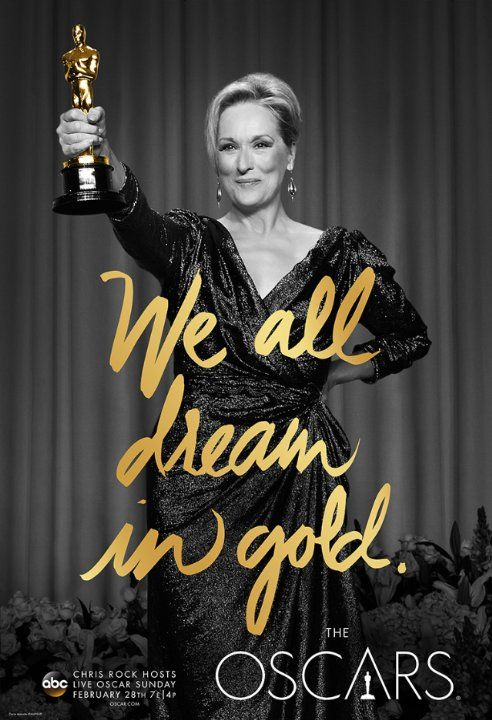hand: (55, 112, 104, 157)
